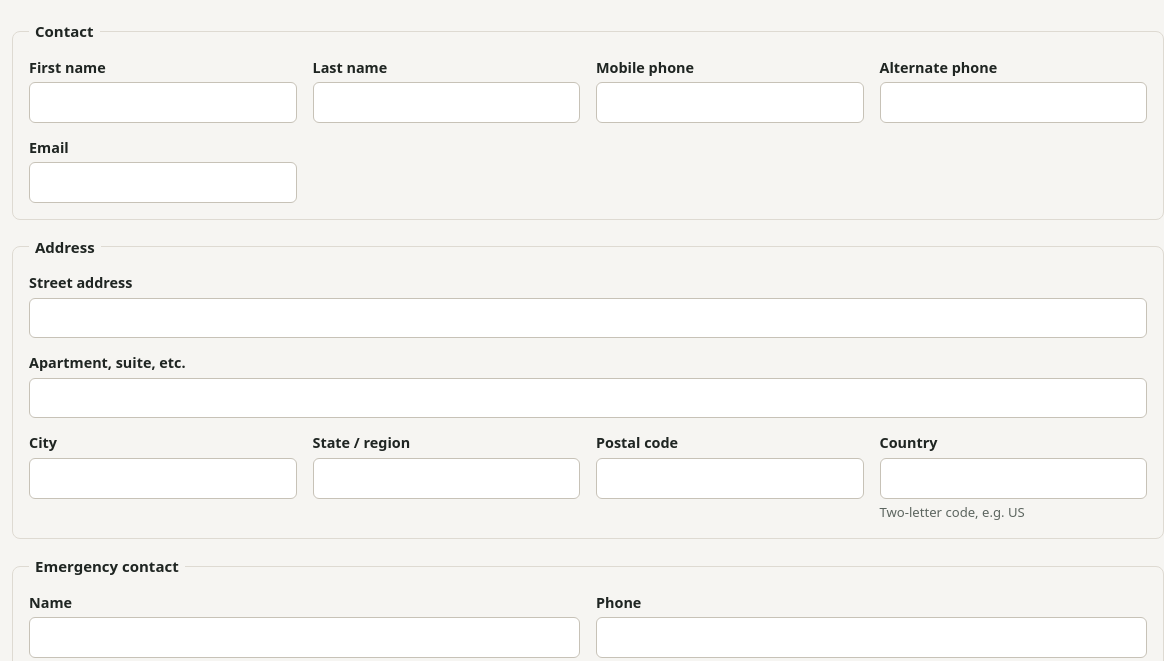
Test: CustomerFormPage › shows server validation errors next to the right fields
The width and height of the screenshot is (1164, 661).
In the field labelled "First name": (163, 102) [29,82,296,123], type "Dana"
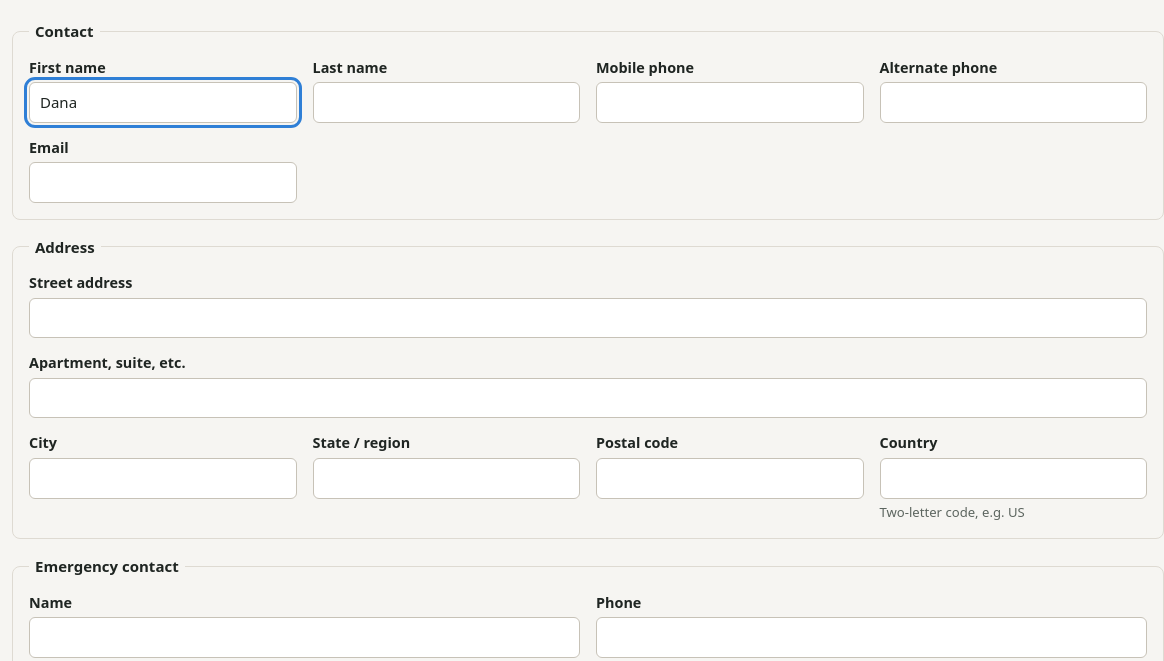
In the field labelled "Last name": (446, 102) [312,82,580,123], type "Whitfield"
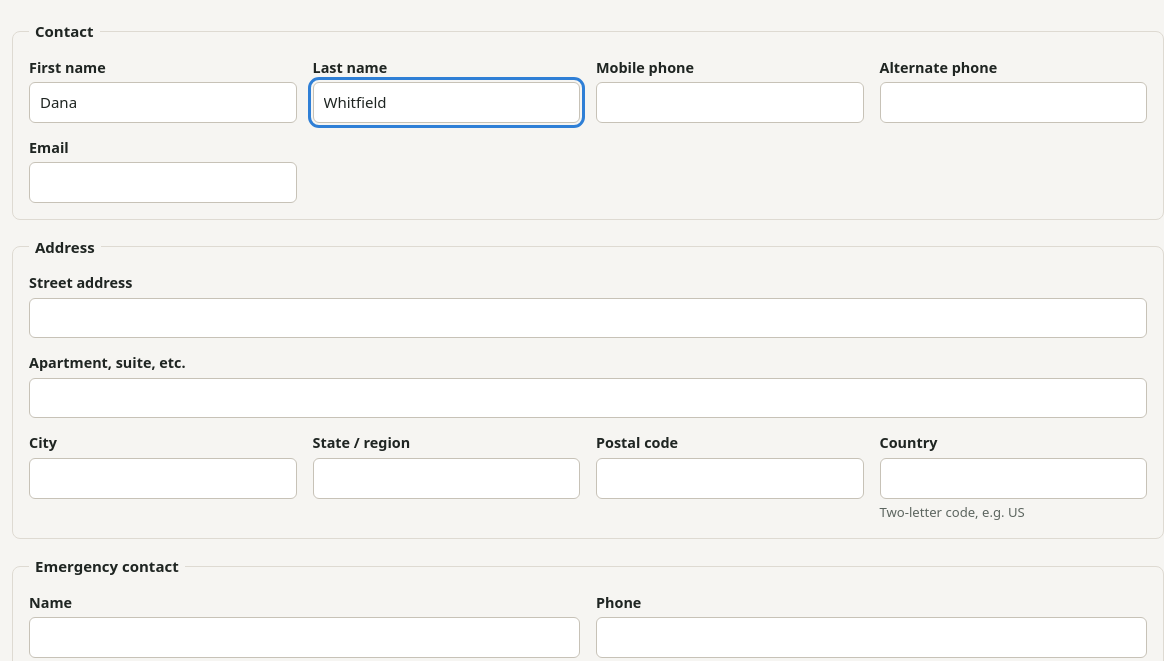
In the field labelled "Email": (163, 182) [29,162,296,203], type "nope"
(page scrolled)
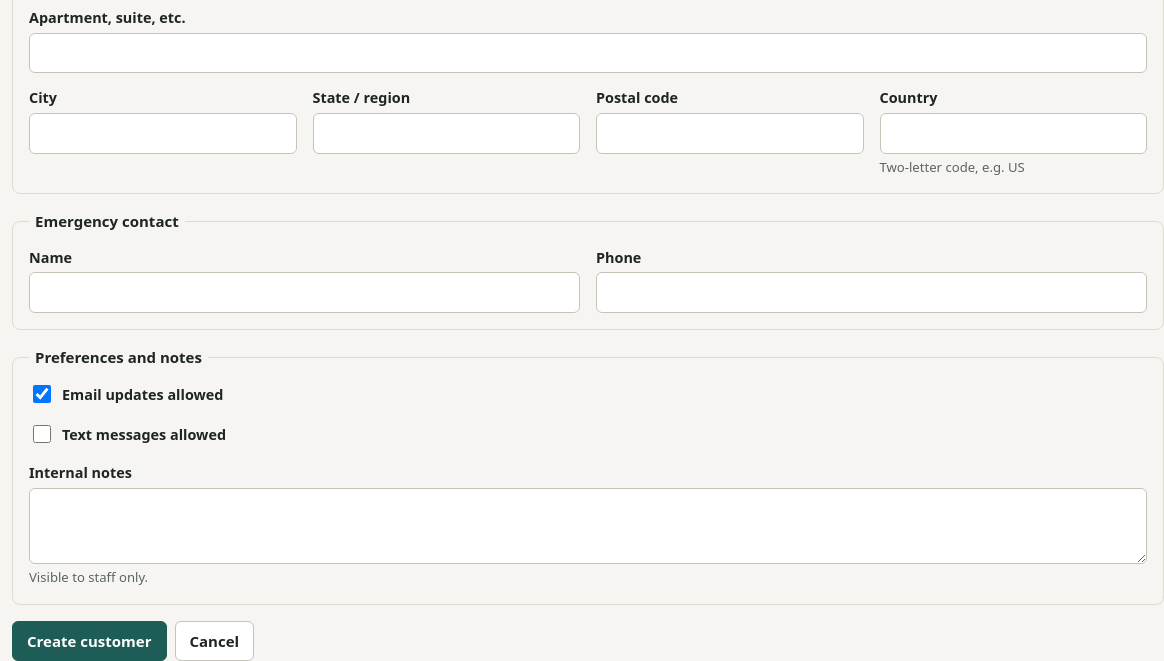
Click the button "Create customer": click(89, 641) [12,621,166,660]
(page scrolled)
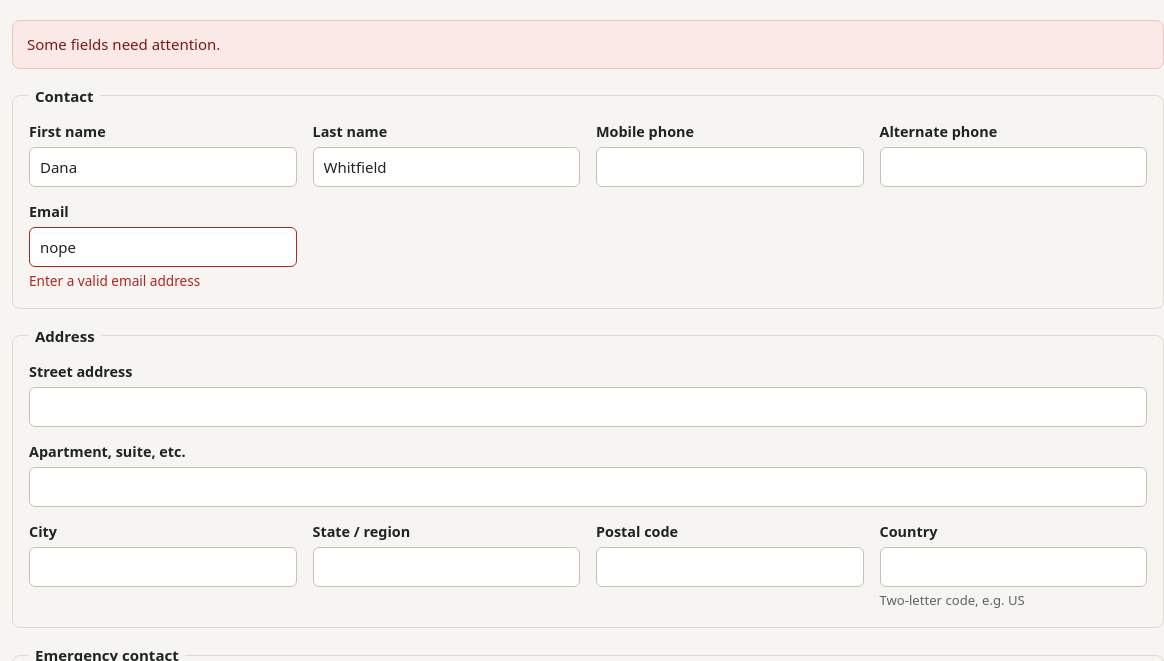
Check: the message reads "Some fields need attention.", box [27,34,220,54]
